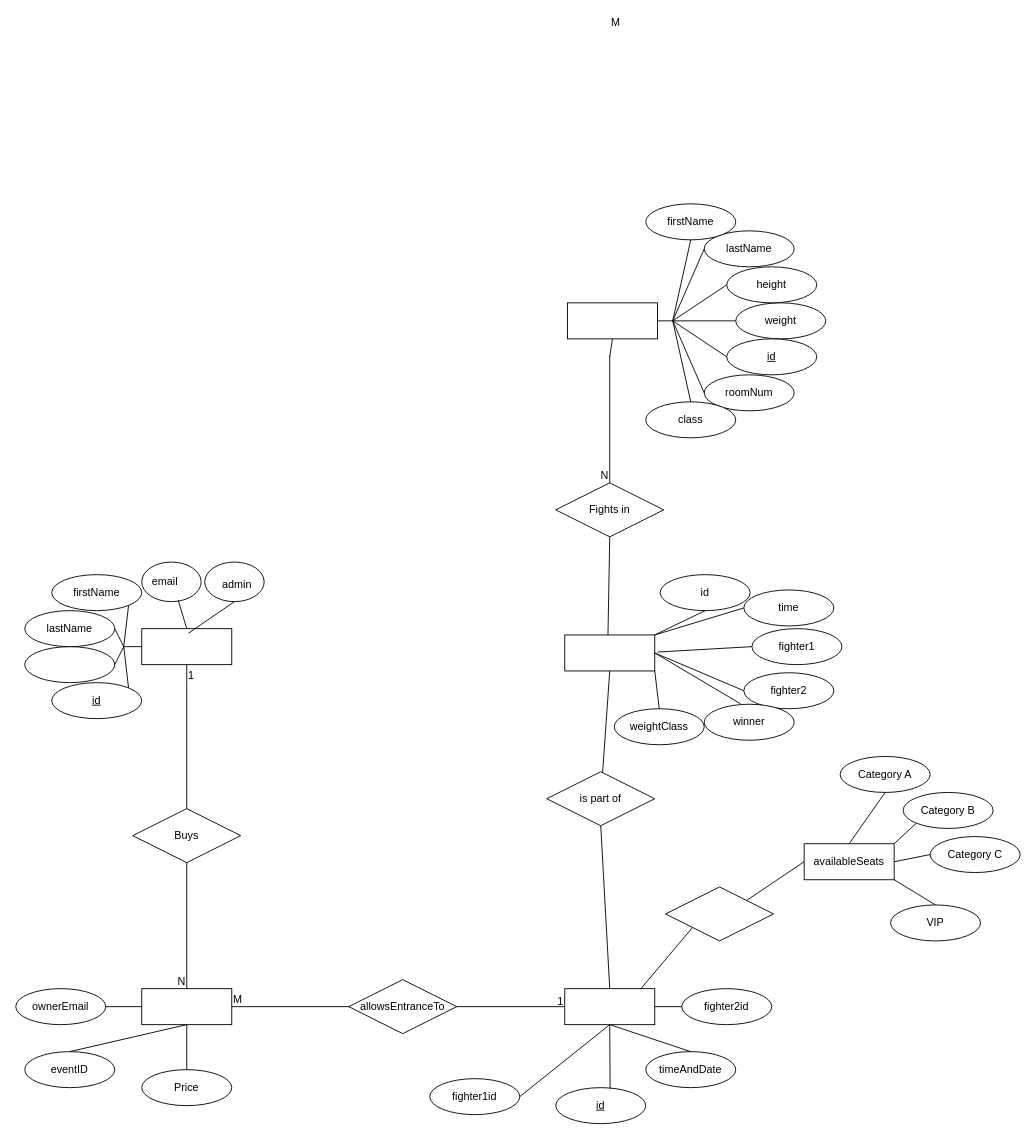
Image size: 1036x1139. Some labels were removed from this diagram. The shapes that lost their labels are listed below. From the top down, each one's box as (x1, y1, x2, y2) in pixels, then its label:
(567, 302, 657, 339): fighter
(24, 646, 115, 683): password
(141, 628, 232, 665): user
(564, 634, 655, 671): fight
(665, 886, 774, 941): have
(141, 988, 232, 1025): ticket
(564, 988, 655, 1025): event
